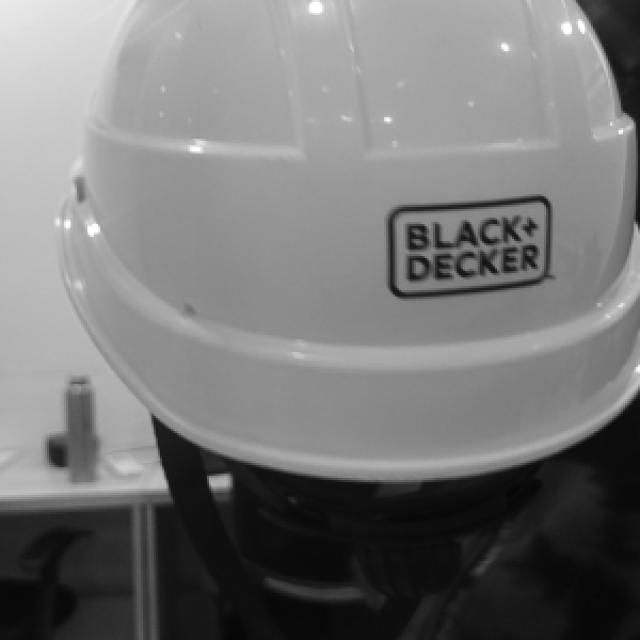safety_helmet: (55, 2, 640, 487)
